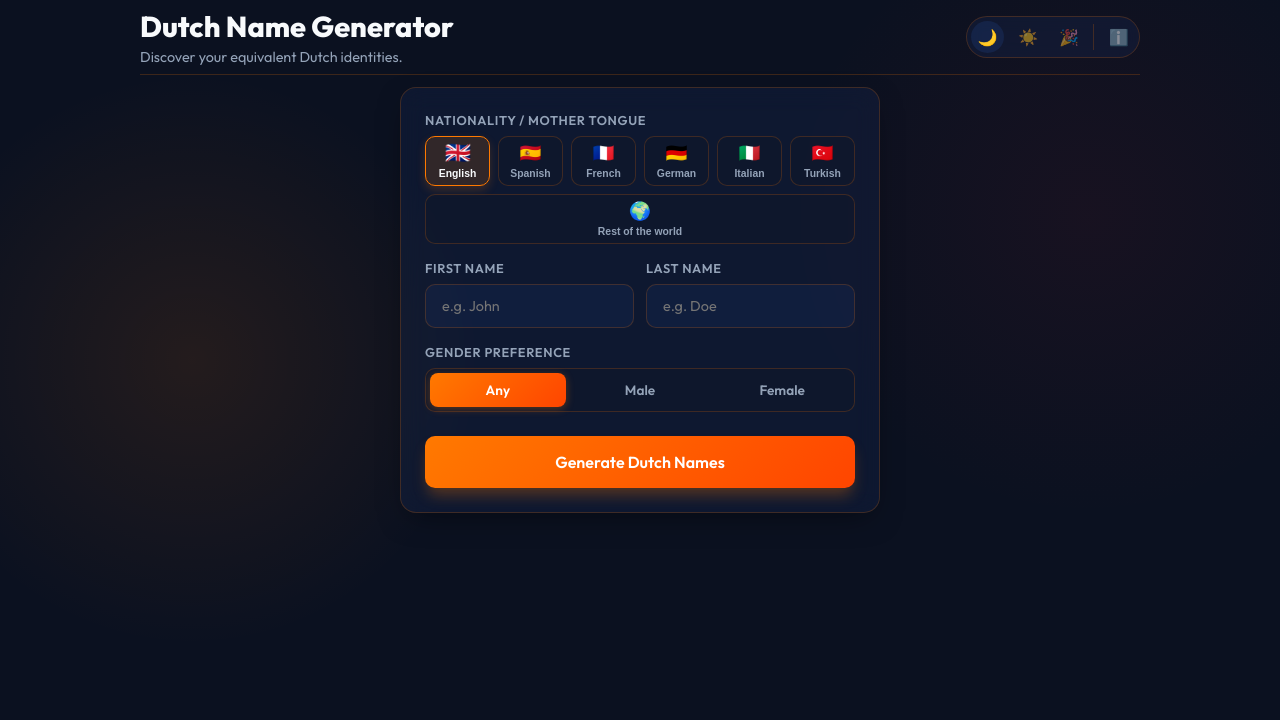
Scenario: App — About Modal › opens when user clicks the about button
Click the button titled "About" at (1119,37), box [1102,21,1135,53]
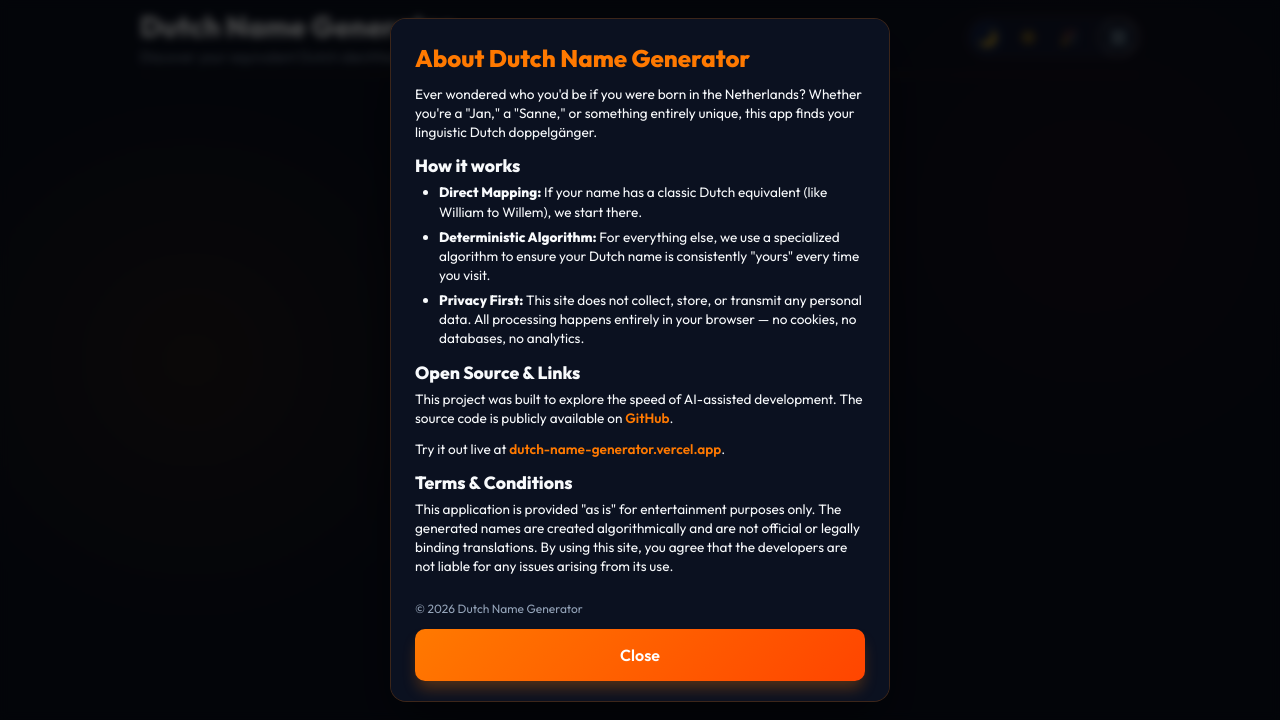
Result: the heading "About Dutch Name Generator" is shown at [415,43,750,73]
Result: the heading "How it works" is shown at [415,154,520,177]
